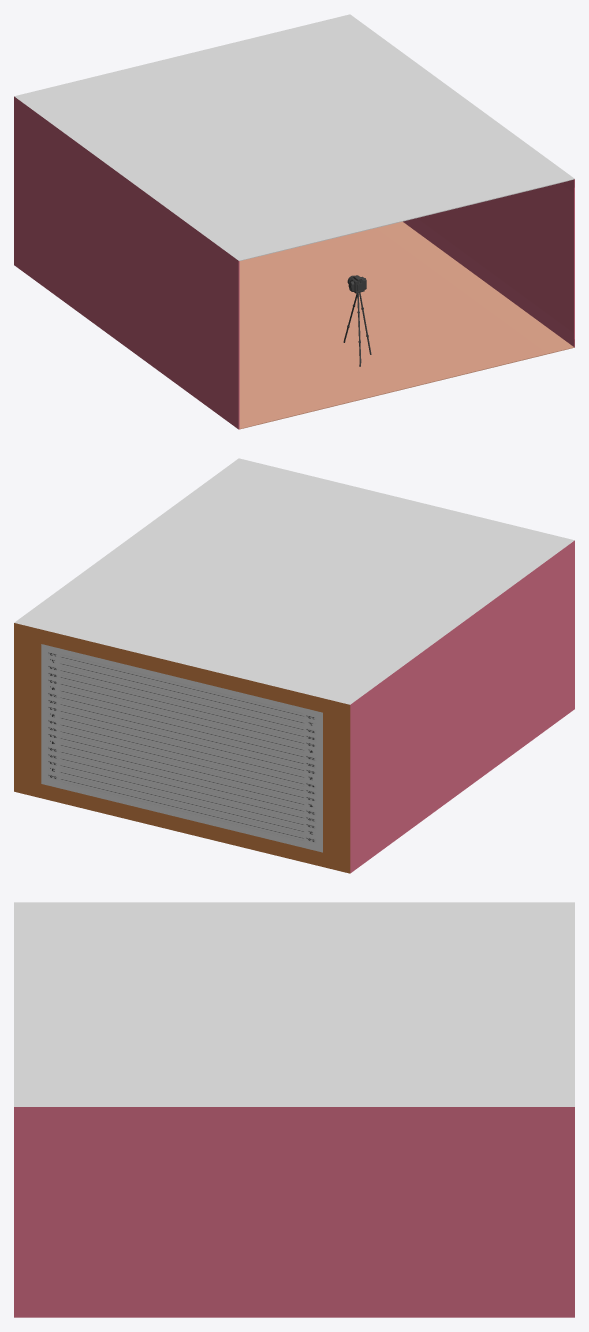
Rendered from Line_up_room.fbx.
3 views of the same model, one above another, from view 1: azimuth 30°, elevation 25°; view 2: azimuth 150°, elevation 25°; view 3: azimuth 270°, elevation 25° (orthographic). The views are drawn at different scales.
Parts seen in each view (by area): view 1: Line-up room, camera stand; view 2: Line-up room; view 3: Line-up room.
Boxes of the visible parts, x1,y1,x2,y2 form: Line-up room: [14, 14, 574, 429]; camera stand: [343, 275, 371, 366]; Line-up room: [14, 458, 574, 873]; Line-up room: [14, 902, 574, 1317].
Bounding box in the file's own units: 4774 × 2295 × 5530.
